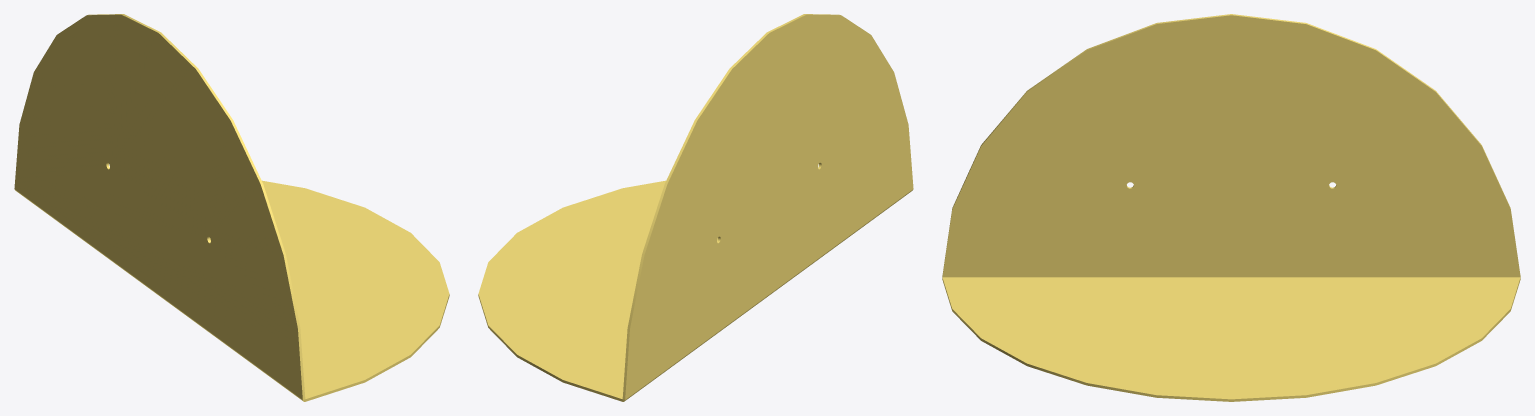
File: ToulouseAmarillo.glb
The picture shows the model from 3 angles, left to right: view 1: azimuth 30°, elevation 25°; view 2: azimuth 150°, elevation 25°; view 3: azimuth 270°, elevation 25°; orthographic projection.
Parts seen in each view (by area): view 1: Root Node; view 2: Root Node; view 3: Root Node.
Boxes of the visible parts, x1,y1,x2,y2 form: Root Node: (14,14,449,401); Root Node: (478,14,913,401); Root Node: (942,14,1520,401).
Size of the model in its own units: 0.202 by 0.202 by 0.4.
